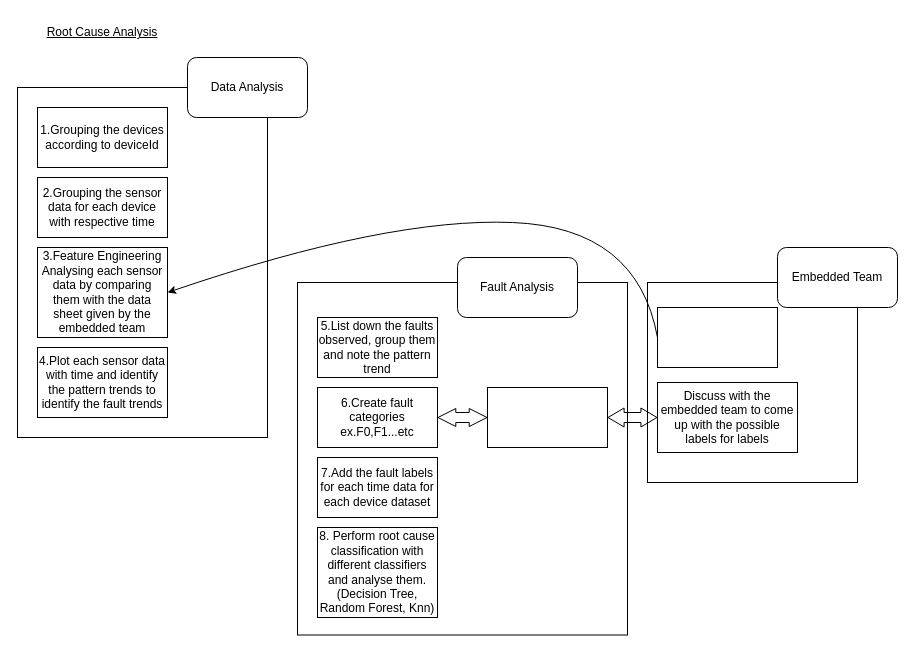
Image size: 915x652. Some labels were removed from this diagram. The centre of each missing label's shape, as x and y in pixels:
"Create an algorithm to find root cause and update accordingly" goes at (x=547, y=417).
"Provide the sensor data information" goes at (x=717, y=337).
